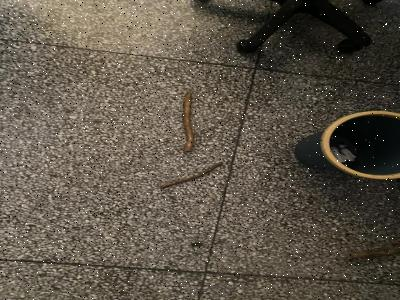Root: (162, 163, 219, 187), (350, 242, 399, 259), (182, 93, 194, 151)
